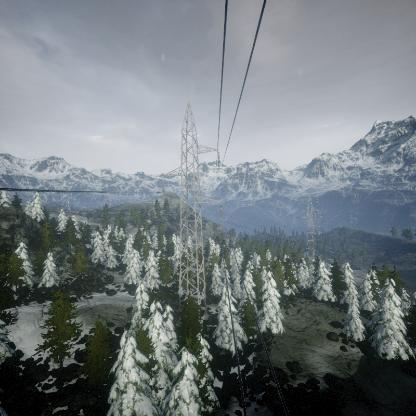tower: (159, 101, 223, 307), (297, 195, 322, 255)
